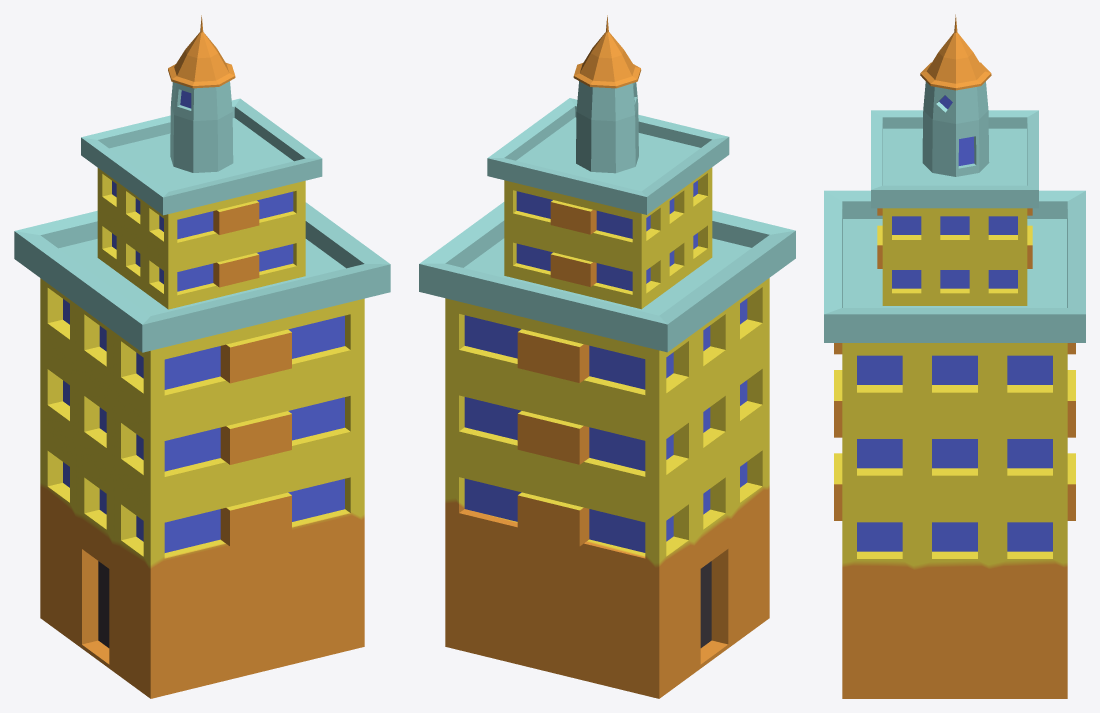
File: house21.fbx
The picture shows the model from 3 angles, left to right: view 1: azimuth 30°, elevation 25°; view 2: azimuth 150°, elevation 25°; view 3: azimuth 270°, elevation 25°; orthographic projection. The views are drawn at different scales.
Visible parts, largest first — view 1: building.006_LOD0; view 2: building.006_LOD0; view 3: building.006_LOD0.
Part boxes in pixels (x1=…): building.006_LOD0: x1=14, y1=15, x2=390, y2=698; building.006_LOD0: x1=419, y1=15, x2=795, y2=698; building.006_LOD0: x1=824, y1=14, x2=1085, y2=698.
Size of what is drawn, in the model's own units: 1069 by 2545 by 956.
